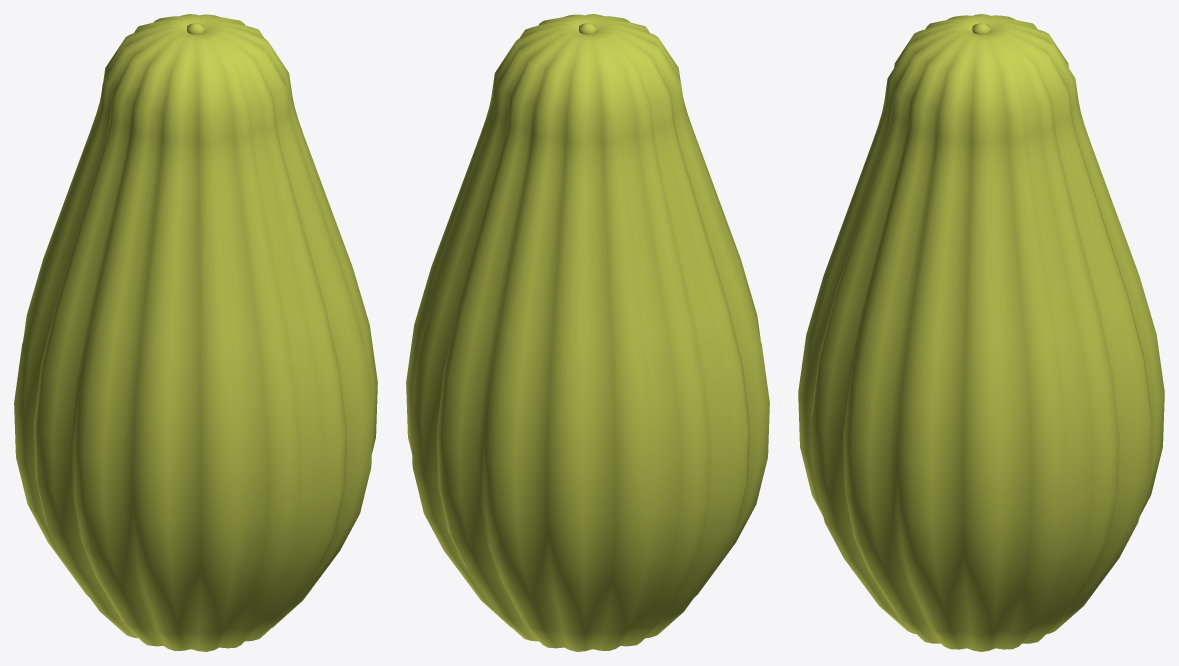
Rendered from Papaya.fbx.
3 renders of one model, left to right at view 1: azimuth 30°, elevation 25°; view 2: azimuth 150°, elevation 25°; view 3: azimuth 270°, elevation 25°, orthographic.
Visible parts, largest first — view 1: Squash; view 2: Squash; view 3: Squash.
Boxes of the visible parts, x1,y1,x2,y2 form: Squash: (14,14,377,651); Squash: (406,14,769,651); Squash: (798,14,1164,651).
Size of the model in its own units: 8.35 by 15.33 by 8.35.
